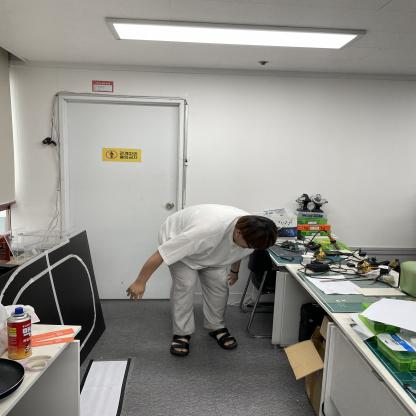fall: (132, 201, 272, 351)
